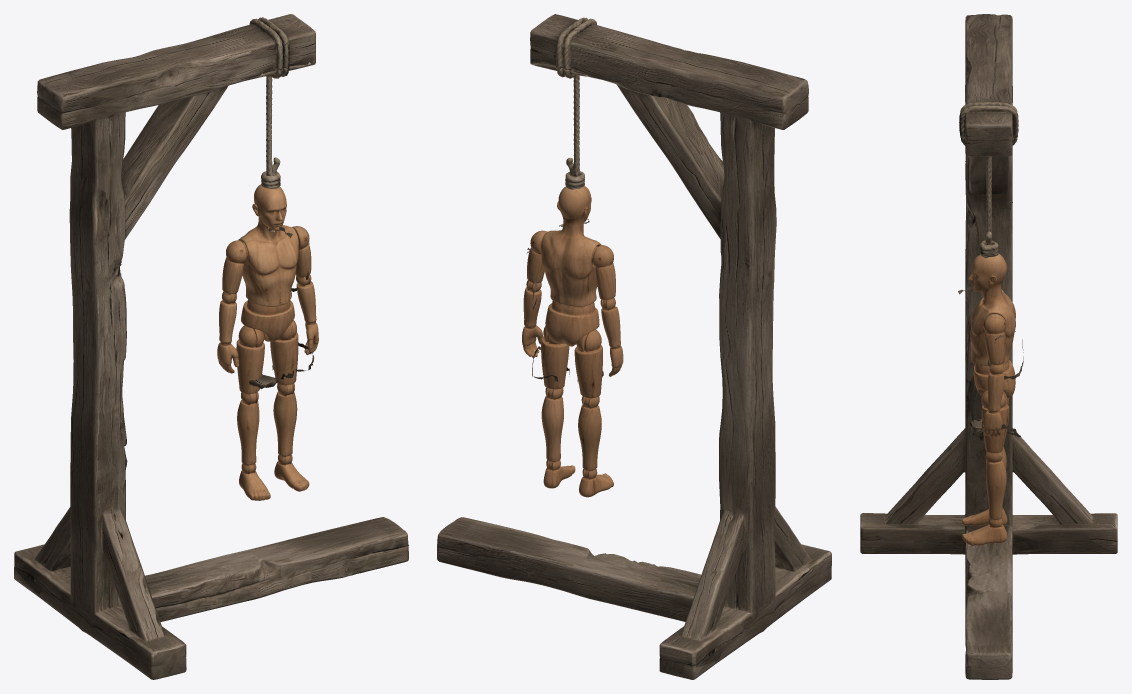
Rendered from hangman.glb.
The picture shows the model from 3 angles, left to right: view 1: azimuth 30°, elevation 25°; view 2: azimuth 150°, elevation 25°; view 3: azimuth 270°, elevation 25°; orthographic projection. The views are drawn at different scales.
Visible parts, largest first — view 1: gallows, body, leg_r, leg_l, arm_l, arm_r, head, rope; view 2: gallows, body, leg_l, leg_r, arm_l, arm_r, head, rope; view 3: gallows, body, leg_r, arm_r, head, rope, leg_l.
Boxes of the visible parts, box(x1,y1,x2,y2) form: gallows: box(14, 14, 408, 679); body: box(236, 225, 302, 380); leg_r: box(272, 363, 309, 491); leg_l: box(237, 372, 270, 500); arm_l: box(217, 239, 251, 373); arm_r: box(292, 226, 318, 355); head: box(251, 184, 286, 239); rope: box(257, 62, 311, 188); gallows: box(437, 14, 831, 679); body: box(536, 230, 602, 384); leg_l: box(577, 377, 613, 497); leg_r: box(541, 368, 575, 488); arm_l: box(592, 242, 623, 376); arm_r: box(522, 230, 547, 357); head: box(557, 185, 591, 243); rope: box(535, 62, 588, 188); gallows: box(860, 14, 1117, 679); body: box(970, 293, 1015, 441); leg_r: box(962, 434, 1007, 545); arm_r: box(981, 314, 1005, 437); head: box(968, 253, 1006, 299); rope: box(960, 137, 1017, 256); leg_l: box(962, 447, 1007, 525).
Bounding box in the file's own units: 1.11 × 1.7 × 0.7623.
2 materials, 2 textured.
